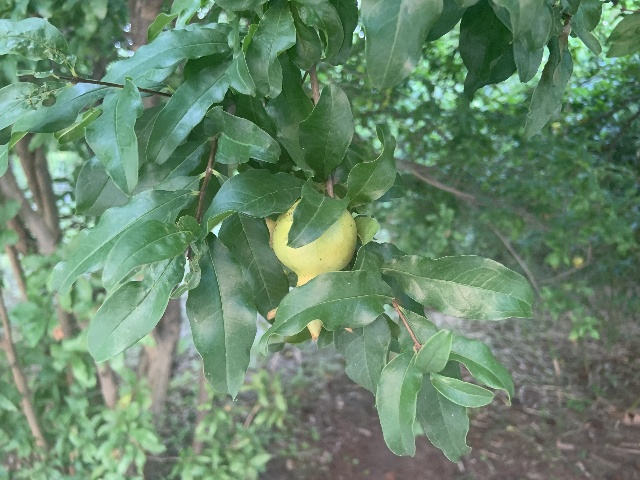mid-growth: (266, 197, 357, 341)
